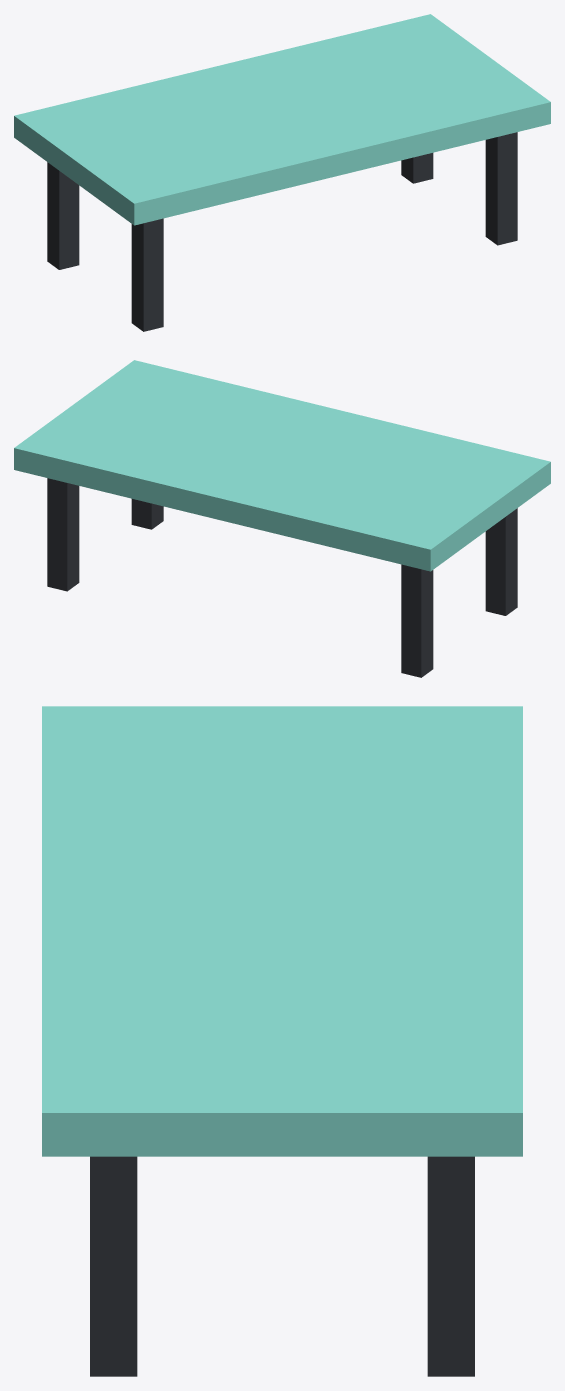
File: Stant.fbx
3 views of the same model, one above another, from view 1: azimuth 30°, elevation 25°; view 2: azimuth 150°, elevation 25°; view 3: azimuth 270°, elevation 25° (orthographic). The views are drawn at different scales.
Parts seen in each view (by area): view 1: Stant; view 2: Stant; view 3: Stant.
Part boxes in pixels (left/top/right/bottom): Stant: left=14, top=14, right=550, bottom=331; Stant: left=14, top=360, right=550, bottom=677; Stant: left=42, top=706, right=522, bottom=1376.
Bounding box in the file's own units: 200 × 65.08 × 99.77.
